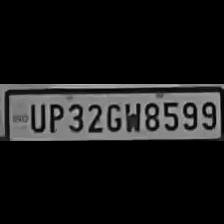2: (85, 100, 103, 132)
3: (65, 100, 83, 132)
5: (160, 97, 178, 130)
8: (141, 98, 159, 132)
9: (180, 97, 198, 129), (199, 97, 217, 129)
G: (104, 100, 122, 132)
P: (46, 100, 64, 132)
U: (27, 99, 46, 131)
W: (123, 100, 141, 132)
